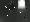person: (19, 2, 26, 13), (10, 3, 14, 14)
